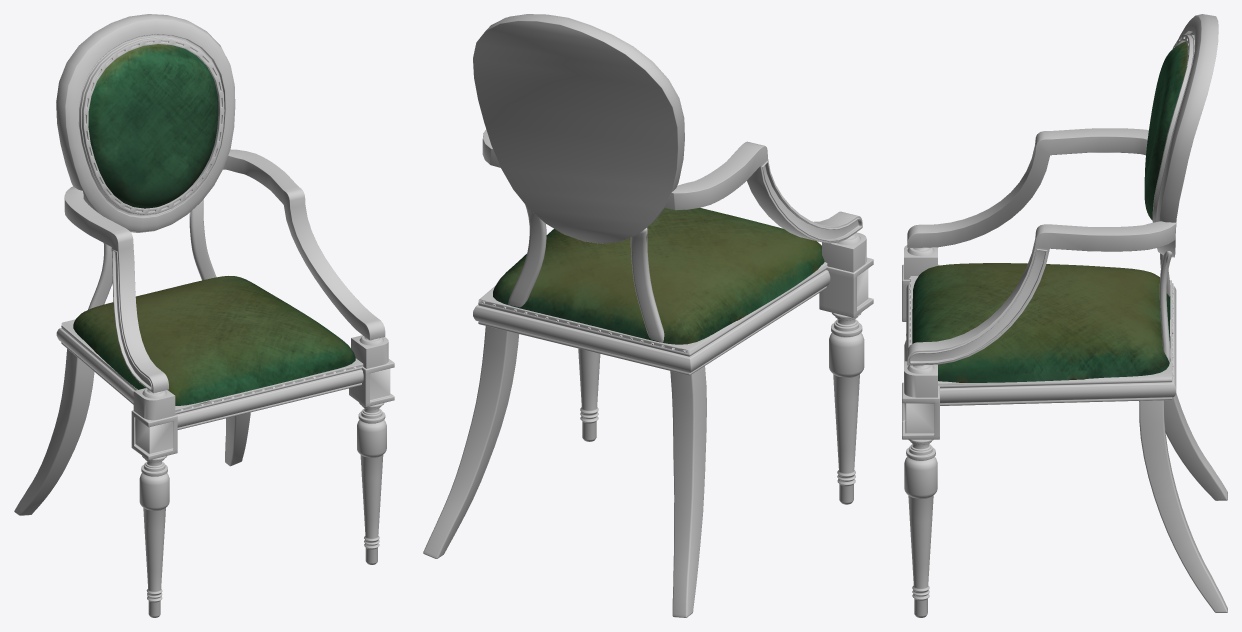
The model's file is CHAIR1.fbx.
3 renders of one model, left to right at view 1: azimuth 30°, elevation 25°; view 2: azimuth 150°, elevation 25°; view 3: azimuth 270°, elevation 25°, orthographic. The views are drawn at different scales.
Visible parts, largest first — view 1: Circle; view 2: Circle; view 3: Circle.
Boxes of the visible parts, x1,y1,x2,y2 form: Circle: (14, 14, 394, 617); Circle: (423, 14, 873, 617); Circle: (902, 14, 1227, 617).
Bounding box in the file's own units: 112 × 207 × 115.
